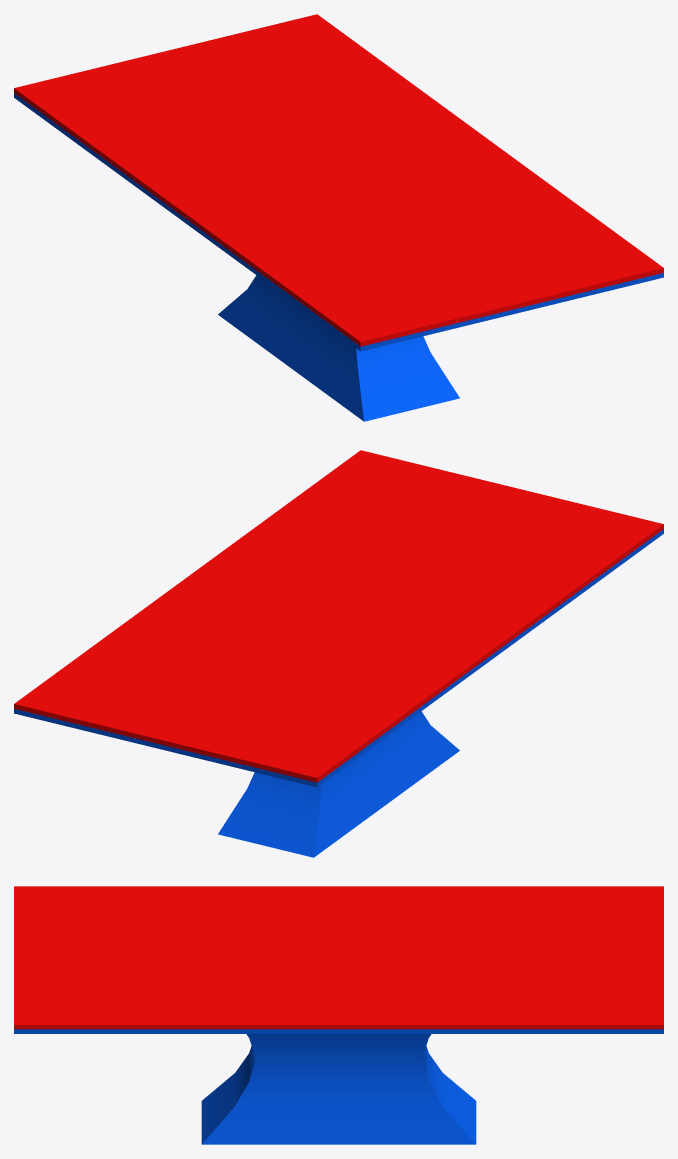
Rendered from hospital_fnt_mesa_oficina.fbx.
The picture shows the model from 3 angles, top to bottom: view 1: azimuth 30°, elevation 25°; view 2: azimuth 150°, elevation 25°; view 3: azimuth 270°, elevation 25°; orthographic projection. The views are drawn at different scales.
Parts seen in each view (by area): view 1: hospital_fnt_mesa_oficina; view 2: hospital_fnt_mesa_oficina; view 3: hospital_fnt_mesa_oficina.
Boxes of the visible parts, x1,y1,x2,y2 form: hospital_fnt_mesa_oficina: (14, 14, 663, 421); hospital_fnt_mesa_oficina: (14, 450, 663, 857); hospital_fnt_mesa_oficina: (14, 886, 663, 1144).
Size of the model in its own units: 133 by 75 by 264.
